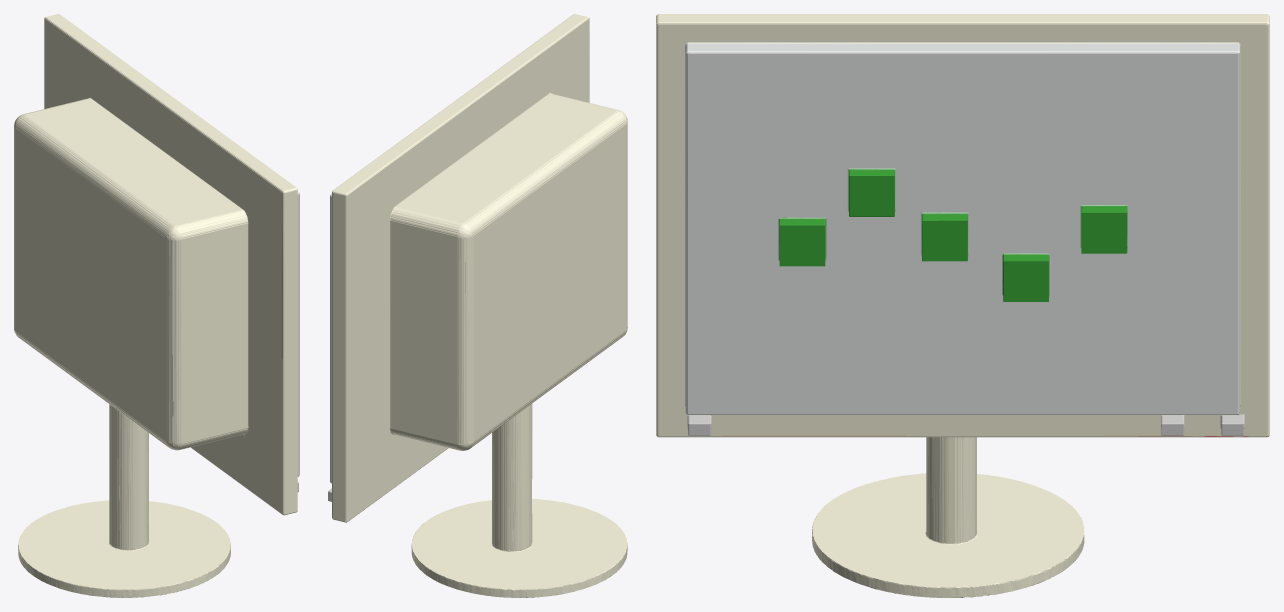
The model's file is monitor.glb.
The picture shows the model from 3 angles, left to right: view 1: azimuth 30°, elevation 25°; view 2: azimuth 150°, elevation 25°; view 3: azimuth 270°, elevation 25°; orthographic projection. The views are drawn at different scales.
Parts seen in each view (by area): view 1: 283473_23_05_27_07_39_30_0; view 2: 283473_23_05_27_07_39_30_0; view 3: 283473_23_05_27_07_39_30_0.
Boxes of the visible parts, x1=… form: 283473_23_05_27_07_39_30_0: x1=14, y1=14, x2=299, y2=597; 283473_23_05_27_07_39_30_0: x1=328, y1=14, x2=627, y2=597; 283473_23_05_27_07_39_30_0: x1=656, y1=14, x2=1269, y2=597.
Size of the model in its own units: 2.38 by 5.35 by 5.35.
Materials: 1 (1 with a texture image).
